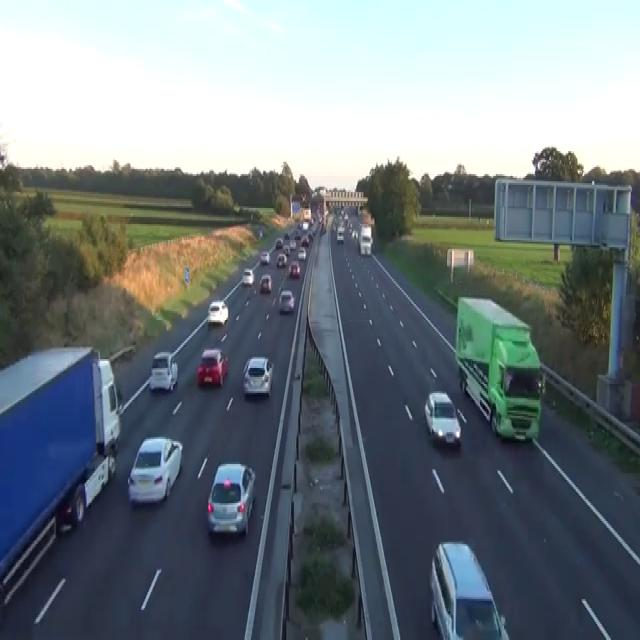Car: (429, 540, 510, 638), (56, 452, 116, 534), (127, 435, 183, 505), (206, 462, 255, 537), (424, 391, 461, 446), (242, 356, 273, 396), (149, 350, 178, 391), (197, 348, 228, 386), (207, 299, 228, 325), (279, 290, 294, 313), (259, 274, 271, 293), (242, 266, 254, 284), (289, 262, 300, 278), (276, 252, 287, 266), (260, 249, 270, 263), (336, 226, 344, 243), (297, 246, 306, 260), (300, 235, 309, 245), (275, 238, 283, 249), (289, 238, 296, 249), (282, 245, 289, 256), (320, 224, 326, 235), (302, 220, 308, 230), (351, 228, 357, 238), (307, 230, 314, 238), (348, 222, 353, 233), (294, 230, 300, 238), (283, 231, 289, 238), (343, 212, 348, 220), (259, 228, 262, 236)
Truck: (0, 343, 120, 612), (455, 295, 543, 443), (357, 222, 372, 256)
